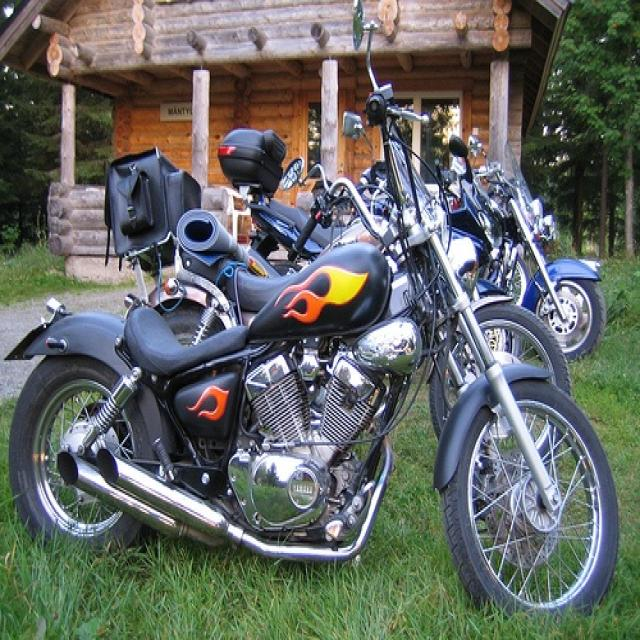motorbike: (7, 2, 620, 630), (105, 143, 567, 478), (219, 128, 521, 386), (315, 165, 605, 362)
